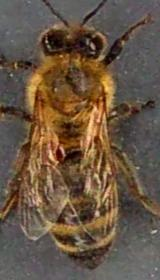varroa_mite: (52, 144, 69, 165)
